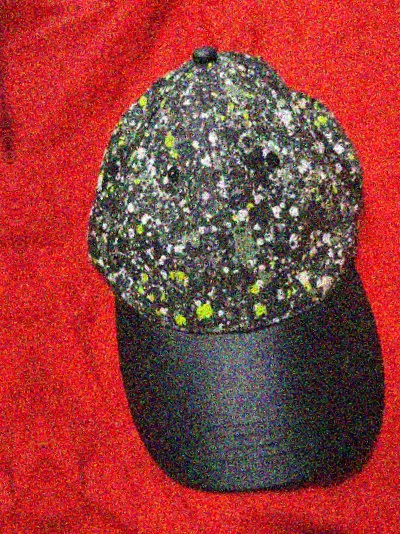Hat: (46, 15, 400, 534), (0, 63, 6, 534)
